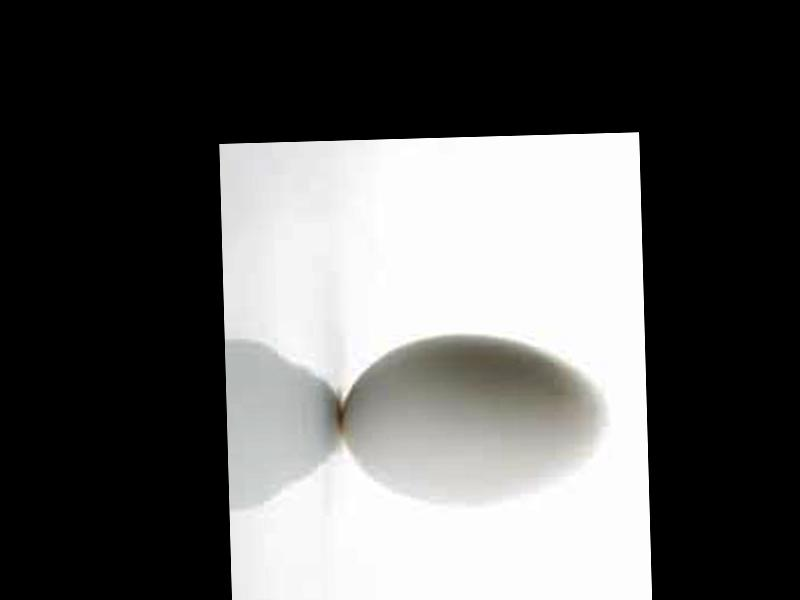Eggs: (339, 331, 607, 503)
